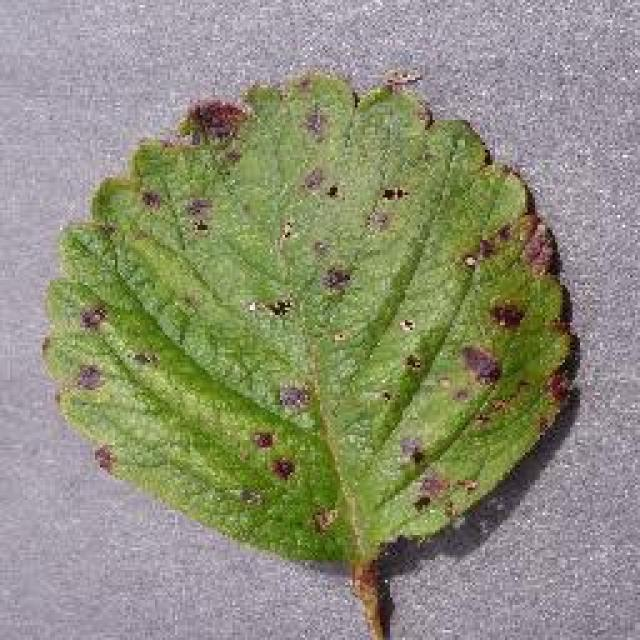Strawberry___Leaf_scorch: (30, 45, 585, 640)
